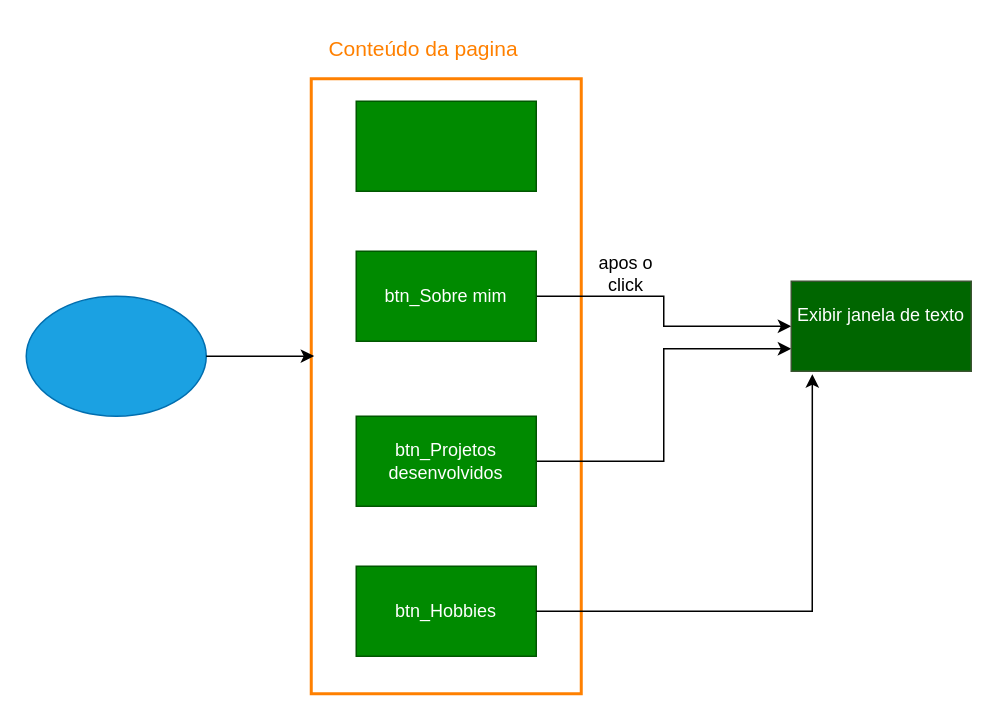
Image size: 998x720. Some labels were removed from this diagram. The shapes that lost their labels are listed below. From the top down, each one's centre as x and y in pixels, then its label:
At pixel 445 145: "text_ cabeçalho".
At pixel 115 355: "Pagina do Portifolio".
